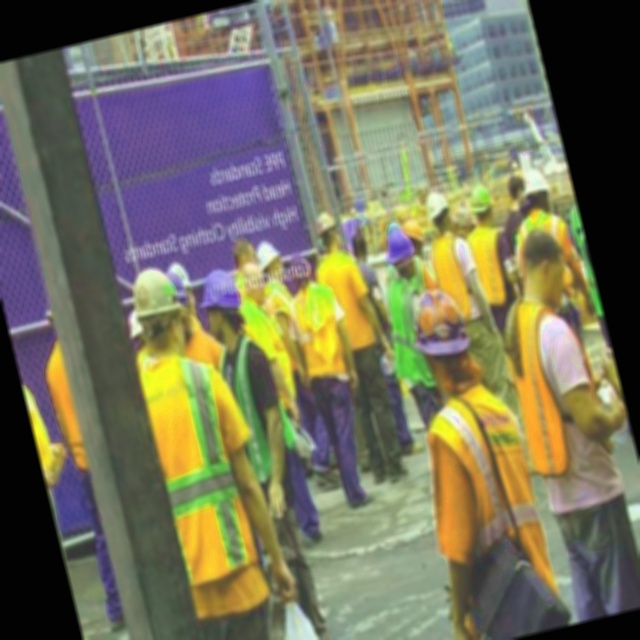Con_Casco: (125, 263, 189, 360)
Con_Chaleco: (138, 351, 258, 583), (497, 292, 618, 493)
Sin_Casco_Mascarrilla: (515, 224, 574, 304)
